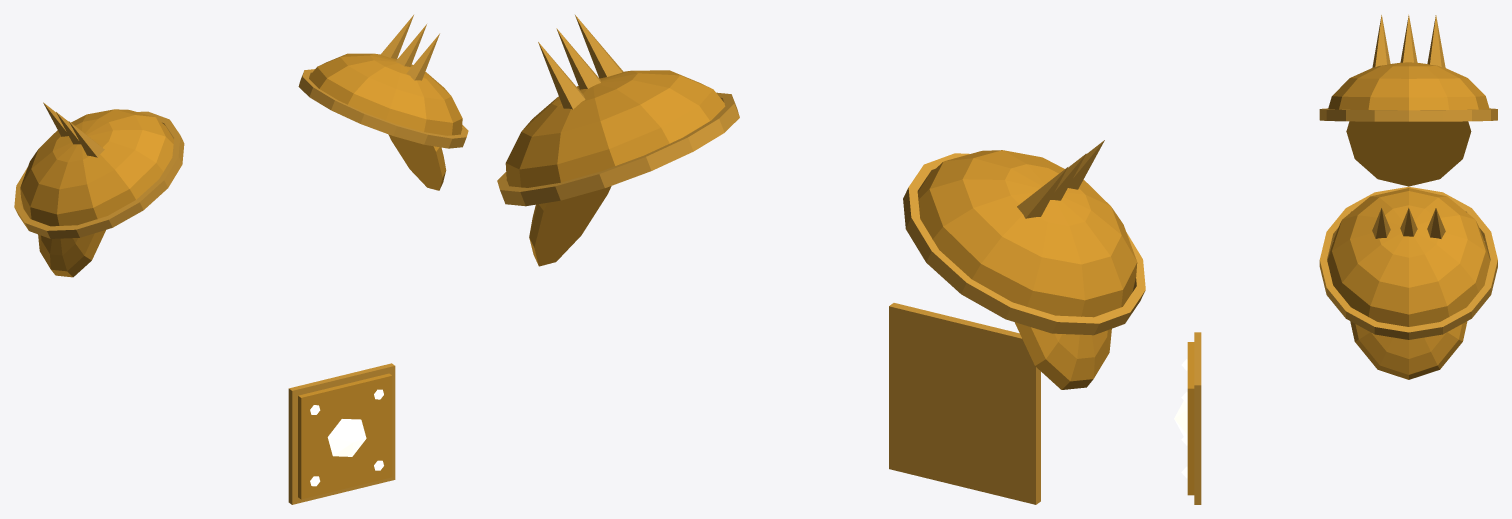
The model's file is armor_lord_chest_legendary_human.glb.
The picture shows the model from 3 angles, left to right: view 1: azimuth 30°, elevation 25°; view 2: azimuth 150°, elevation 25°; view 3: azimuth 270°, elevation 25°; orthographic projection. The views are drawn at different scales.
Parts seen in each view (by area): view 1: armor_lord_chest_legendary_human__clavicle_r, armor_lord_chest_legendary_human__clavicle_l, armor_lord_chest_legendary_human__spine_03; view 2: armor_lord_chest_legendary_human__clavicle_r, armor_lord_chest_legendary_human__clavicle_l, armor_lord_chest_legendary_human__spine_03; view 3: armor_lord_chest_legendary_human__clavicle_l, armor_lord_chest_legendary_human__clavicle_r, armor_lord_chest_legendary_human__spine_03.
Boxes of the visible parts, x1,y1,x2,y2 form: armor_lord_chest_legendary_human__clavicle_r: [14, 102, 184, 277]; armor_lord_chest_legendary_human__clavicle_l: [298, 15, 468, 190]; armor_lord_chest_legendary_human__spine_03: [288, 363, 395, 504]; armor_lord_chest_legendary_human__clavicle_r: [903, 140, 1145, 389]; armor_lord_chest_legendary_human__clavicle_l: [497, 15, 739, 266]; armor_lord_chest_legendary_human__spine_03: [889, 303, 1040, 504]; armor_lord_chest_legendary_human__clavicle_l: [1319, 186, 1497, 379]; armor_lord_chest_legendary_human__clavicle_r: [1319, 14, 1497, 186]; armor_lord_chest_legendary_human__spine_03: [1174, 332, 1201, 504].
Bounding box in the file's own units: 73.09 × 56.73 × 45.09.
